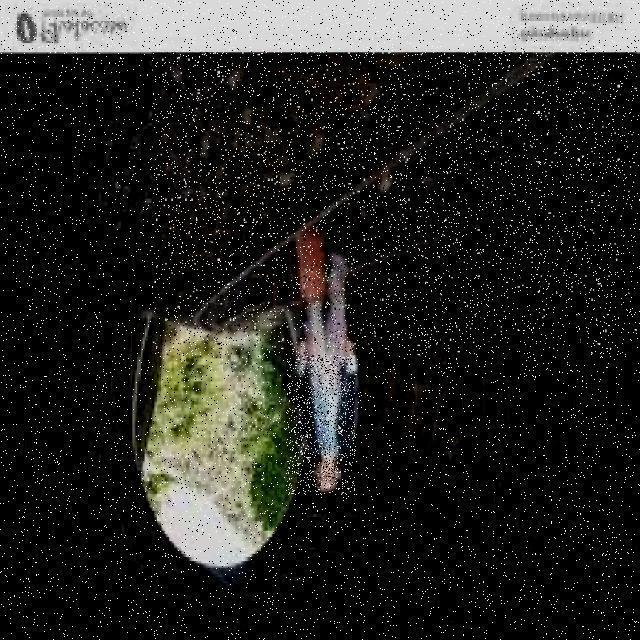rail: (154, 53, 637, 356)
